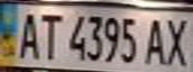3: (84, 11, 106, 62)
4: (63, 10, 87, 62)
5: (118, 14, 142, 65)
9: (103, 12, 124, 63)
A: (12, 8, 42, 60), (142, 15, 172, 66)
T: (36, 9, 63, 61)
X: (160, 15, 193, 67)
